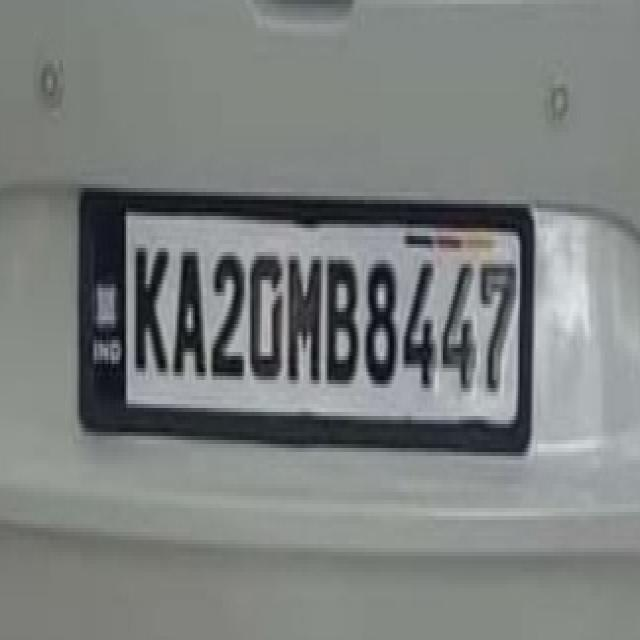0: (248, 246, 286, 384)
4: (439, 247, 480, 394), (401, 247, 440, 385)
7: (480, 244, 520, 398)
8: (362, 247, 400, 392)
A: (172, 224, 212, 384)
B: (324, 242, 360, 388)
K: (130, 225, 170, 382)
M: (286, 240, 326, 390)
